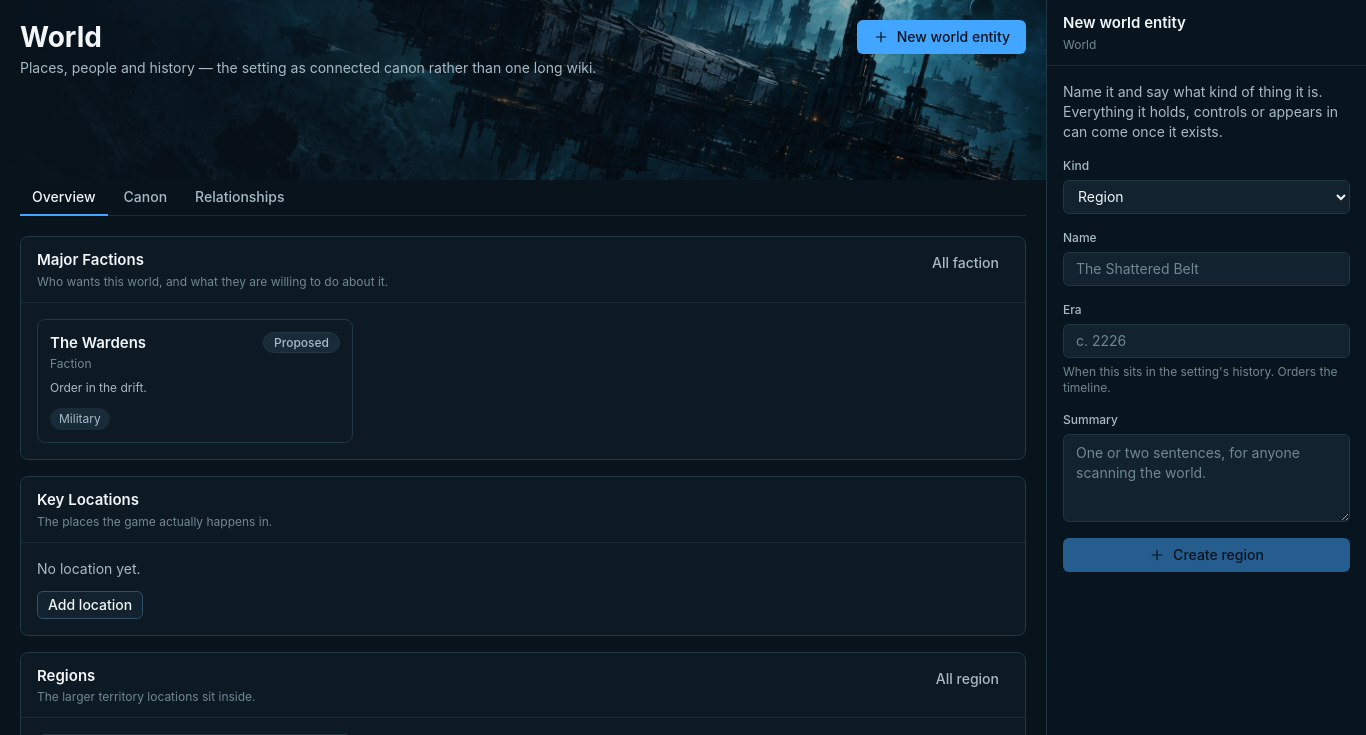
Test case: World workspace › relationships › shows an archived neighbour as archived rather than hiding the edge
Expected: the heading "Major Factions" is shown, [37,250,144,269]
Click the tab "Relationships": (240, 198) [183,180,296,216]
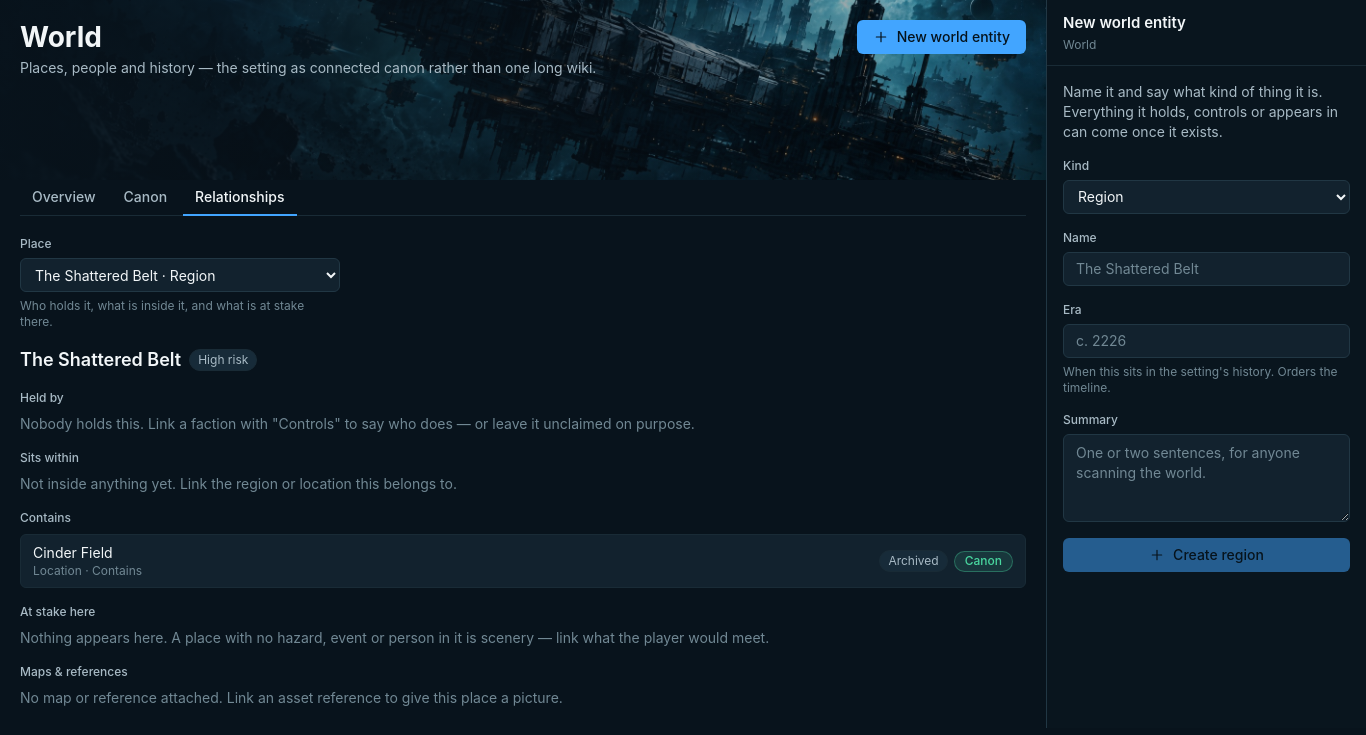
Result: the text "Archived" is shown at [879,550,948,572]
